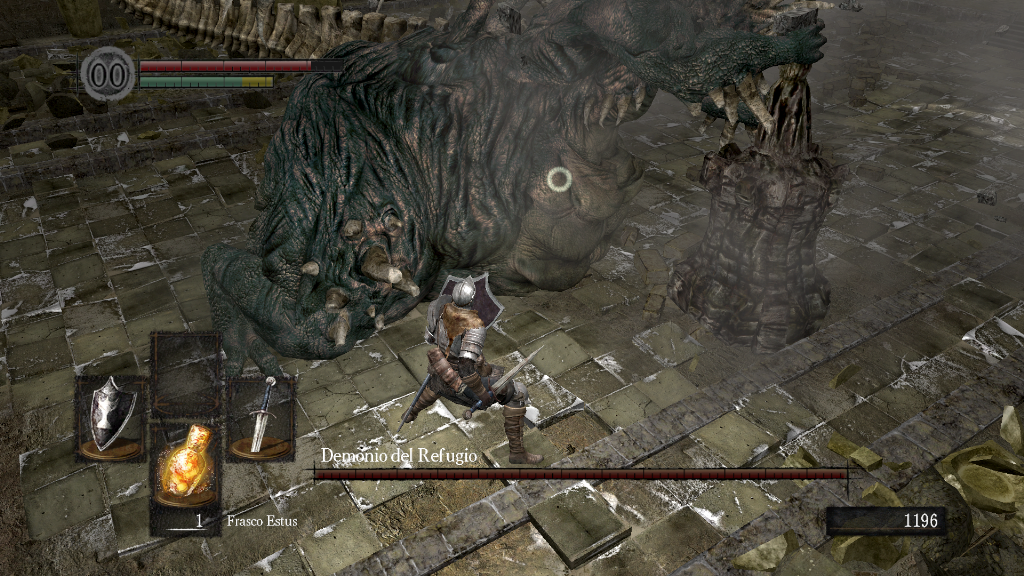asylumDemon: (196, 3, 841, 377)
bossHP: (314, 469, 847, 479)
health: (138, 58, 343, 71)
humanity: (80, 45, 136, 102)
player: (399, 269, 548, 463)
souls: (825, 506, 945, 536)
stamina: (138, 74, 274, 88)
